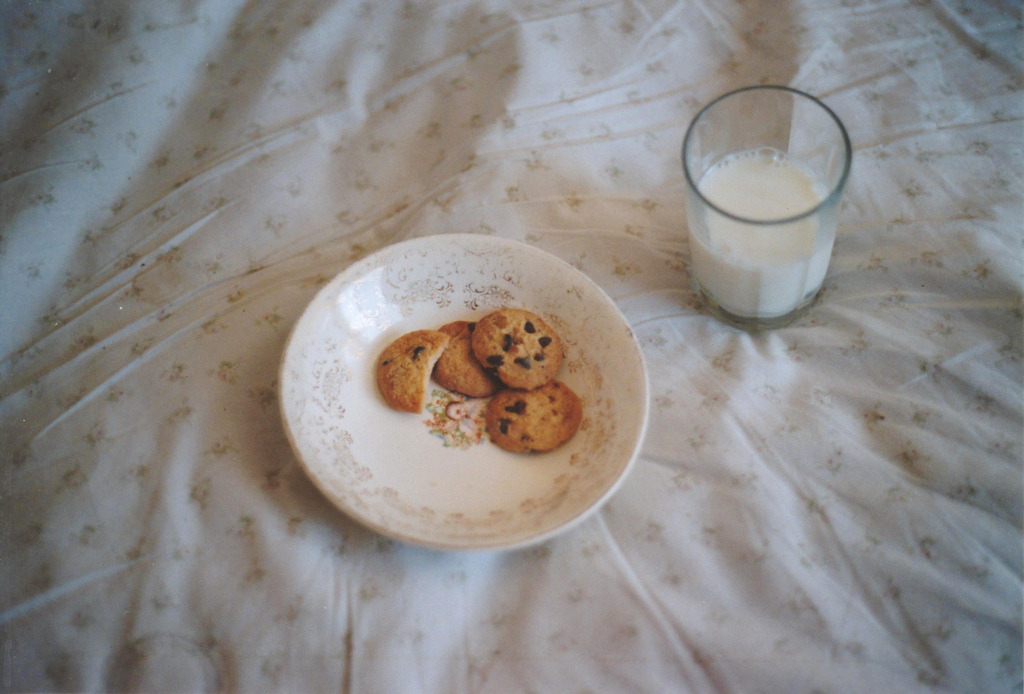glass of milk: (669, 75, 872, 340)
